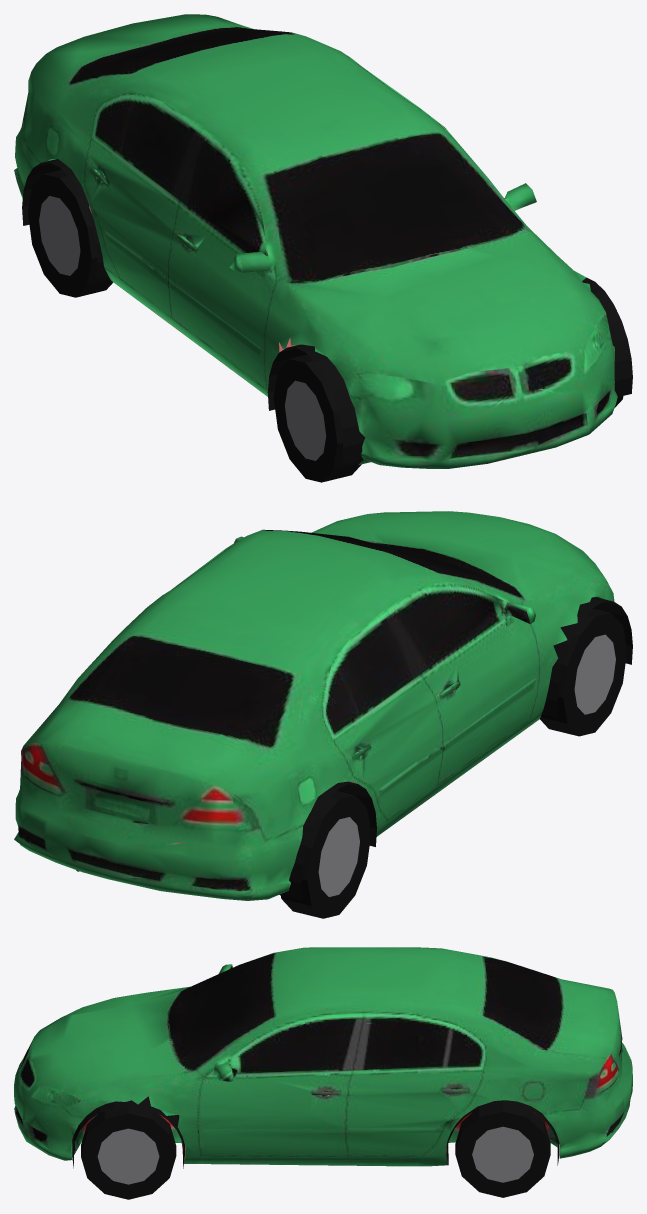
Rendered from saloon-green.glb.
The picture shows the model from 3 angles, top to bottom: view 1: azimuth 30°, elevation 25°; view 2: azimuth 150°, elevation 25°; view 3: azimuth 270°, elevation 25°; orthographic projection. The views are drawn at different scales.
Parts seen in each view (by area): view 1: saloon, wheel_fr, wheel_rr; view 2: saloon, wheel_rr, wheel_fr; view 3: saloon, wheel_rl, wheel_fl.
Part boxes in pixels (x1,y1,x2,y2): saloon: [14, 14, 632, 468]; wheel_fr: [273, 354, 363, 482]; wheel_rr: [28, 170, 112, 297]; saloon: [14, 511, 632, 900]; wheel_rr: [280, 791, 371, 918]; wheel_fr: [540, 608, 626, 736]; saloon: [14, 947, 632, 1168]; wheel_rl: [455, 1103, 550, 1197]; wheel_fl: [81, 1105, 176, 1199].
Bounding box in the file's own units: 1.88 × 1.41 × 4.5.
Materials: 1 (1 with a texture image).
